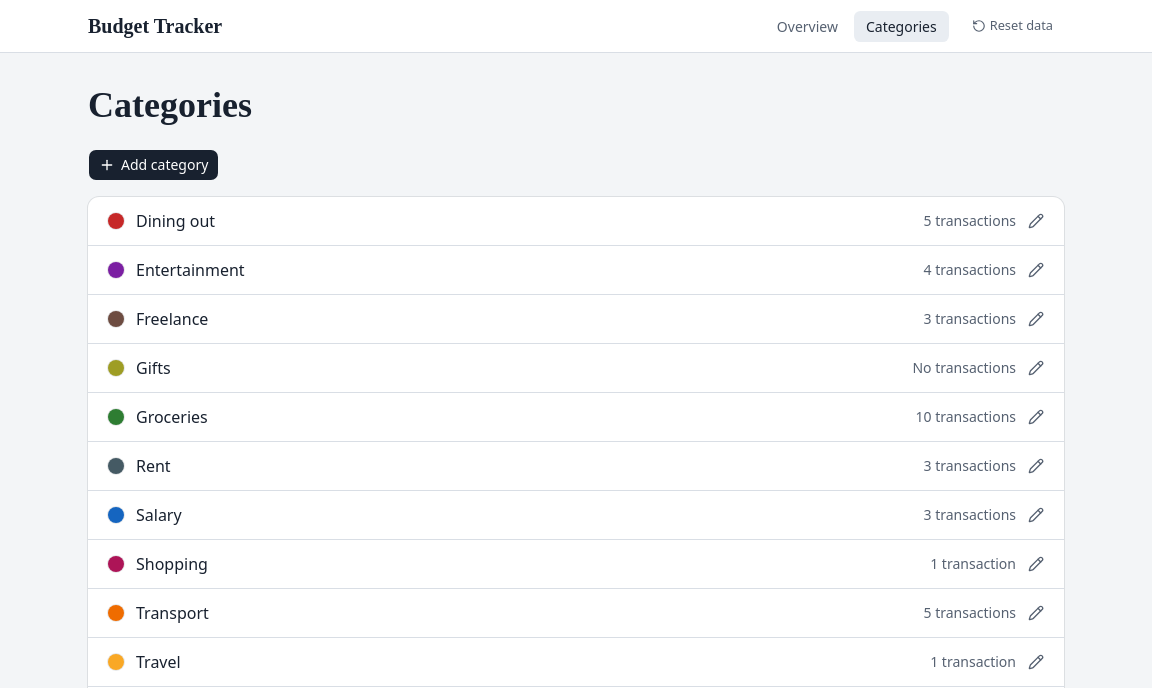
Test: categories page › explains why a category with transactions cannot be deleted
Click the button with aria-label "Edit category: Groceries, 10 transactions" at (172, 417), box [88, 393, 1064, 441]
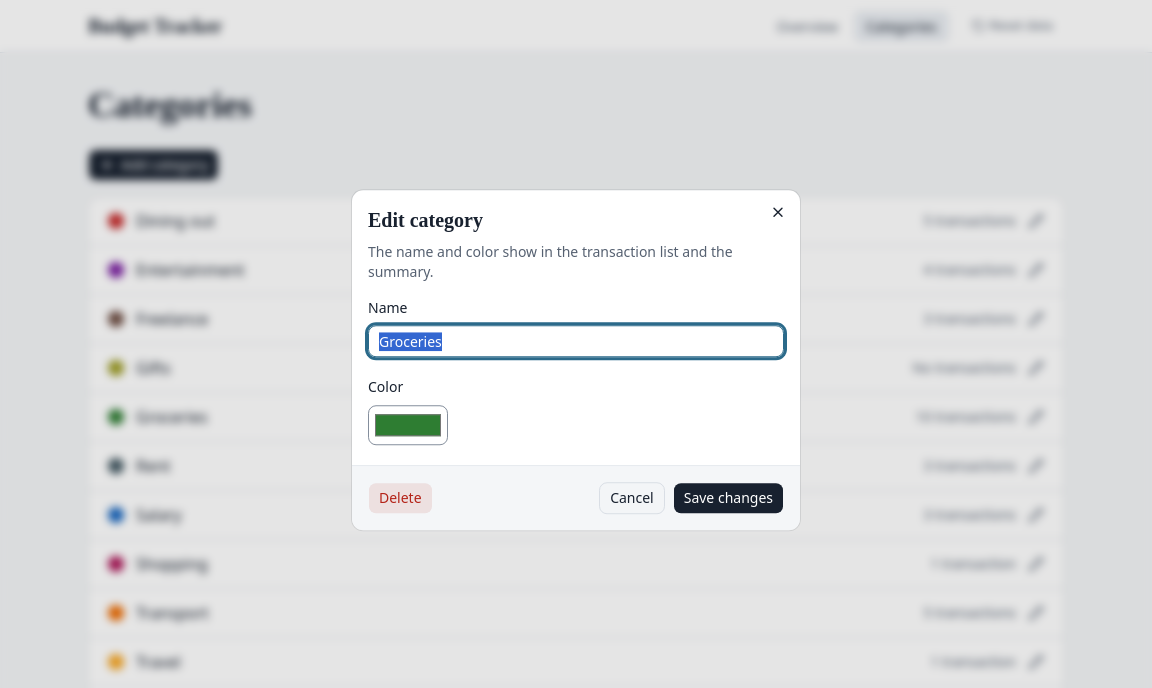
Click the button "Delete" at (400, 498), box [368, 482, 433, 514]
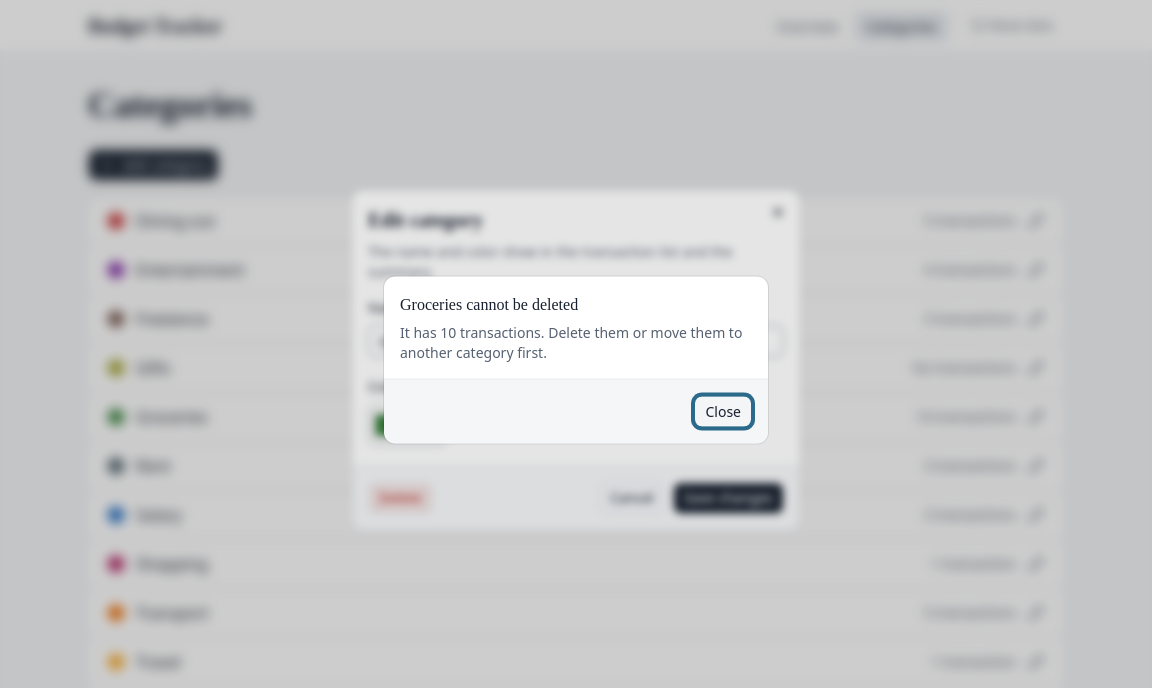
Result: the text "It has 10 transactions. Delete them or move them to another category first." is shown at [400, 322, 752, 362]
